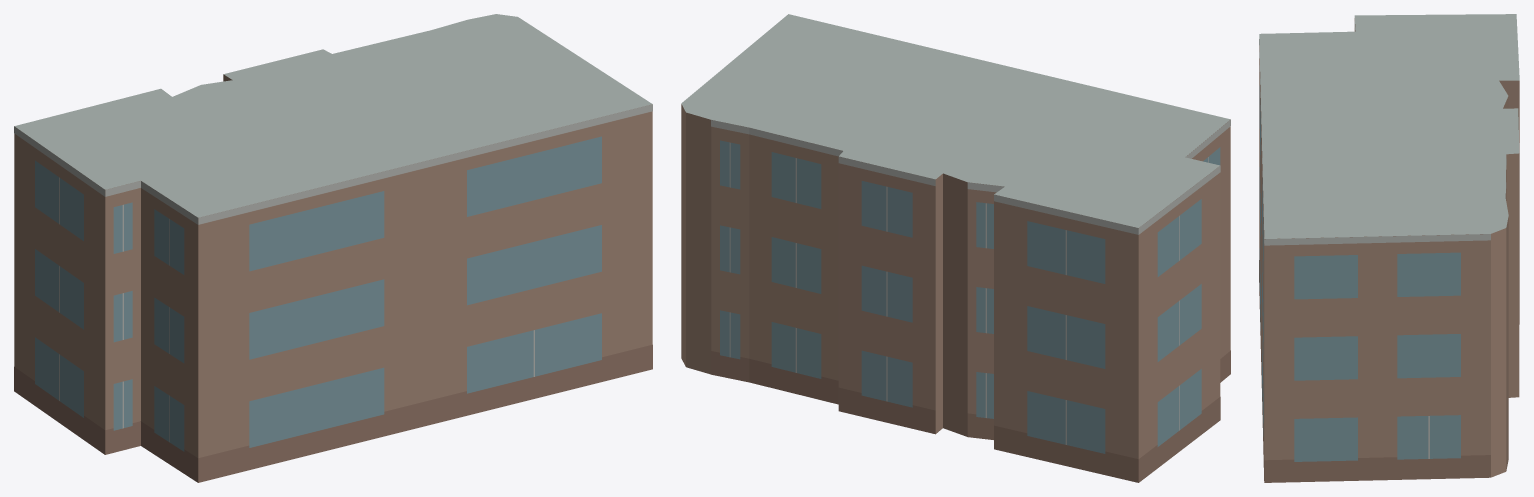
Rendered from survey-upis-33044223.glb.
3 renders of one model, left to right at view 1: azimuth 30°, elevation 25°; view 2: azimuth 150°, elevation 25°; view 3: azimuth 270°, elevation 25°, orthographic. The views are drawn at different scales.
Visible parts, largest first — view 1: survey-upis-33044223.tmp; view 2: survey-upis-33044223.tmp; view 3: survey-upis-33044223.tmp.
Boxes of the visible parts, box(x1,y1,x2,y2) form: survey-upis-33044223.tmp: box(14, 14, 652, 482); survey-upis-33044223.tmp: box(681, 14, 1230, 482); survey-upis-33044223.tmp: box(1259, 14, 1519, 482).
Bounding box in the file's own units: 18.03 × 9.1 × 8.83.
